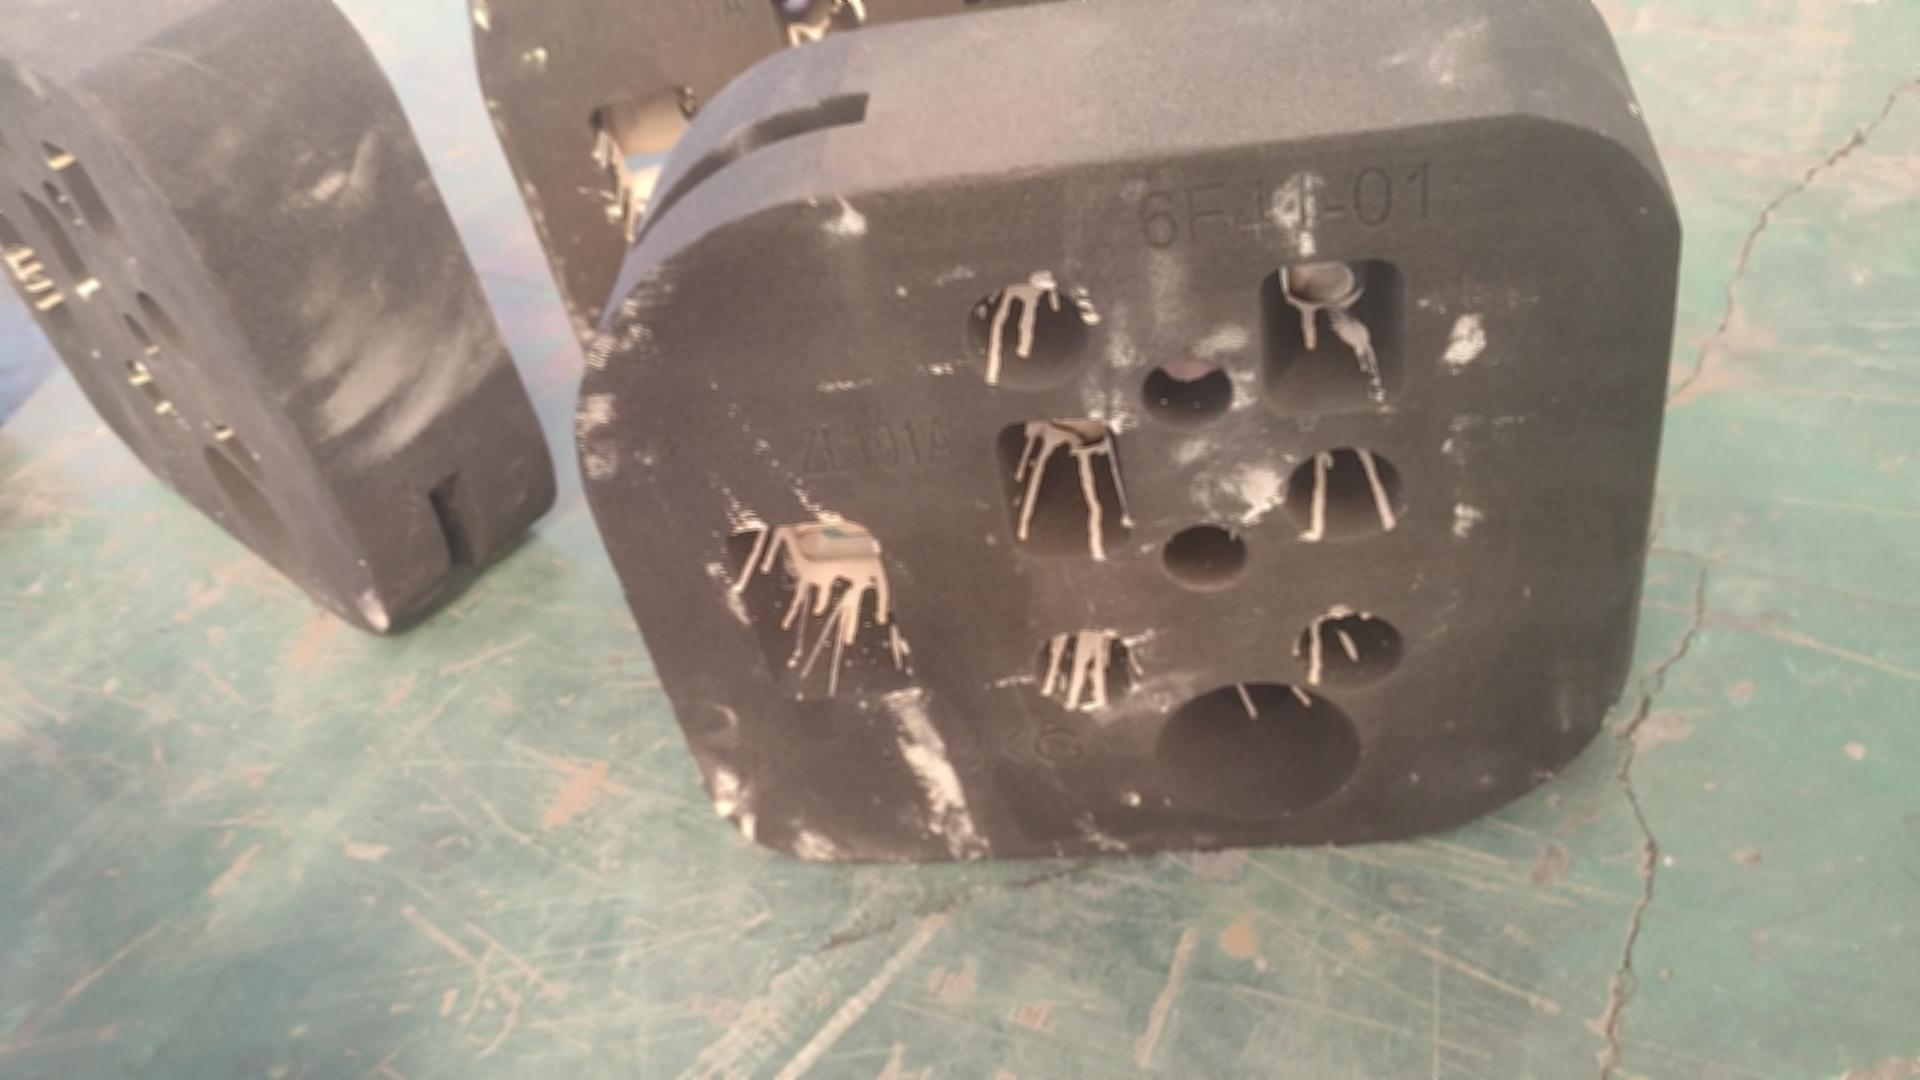pouring hole: (1155, 680, 1362, 816), (200, 443, 298, 570)
